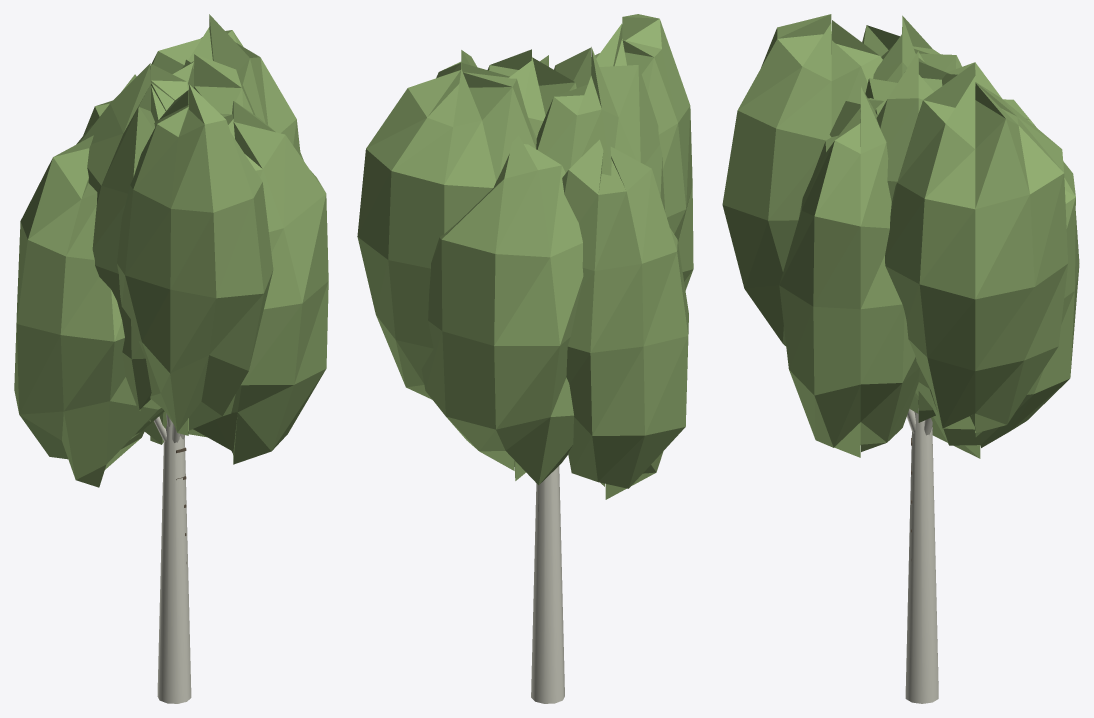
The model's file is birch_tree_variant_03.glb.
The picture shows the model from 3 angles, left to right: view 1: azimuth 30°, elevation 25°; view 2: azimuth 150°, elevation 25°; view 3: azimuth 270°, elevation 25°; orthographic projection. The views are drawn at different scales.
Parts seen in each view (by area): view 1: static_leaf_light, static_birch_bark; view 2: static_leaf_light, static_birch_bark; view 3: static_leaf_light, static_birch_bark.
Boxes of the visible parts, box(x1,y1,x2,y2) form: static_leaf_light: box(14, 14, 328, 487); static_birch_bark: box(154, 413, 191, 703); static_leaf_light: box(357, 14, 693, 499); static_birch_bark: box(531, 466, 564, 703); static_leaf_light: box(722, 14, 1079, 458); static_birch_bark: box(905, 408, 938, 703).
Bounding box in the file's own units: 4.18 × 8.45 × 4.09.
